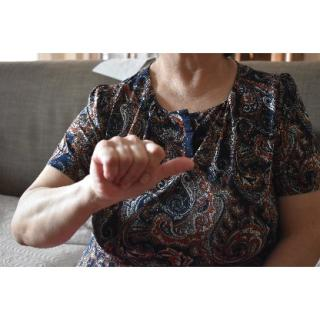DAD: (88, 132, 194, 212)
